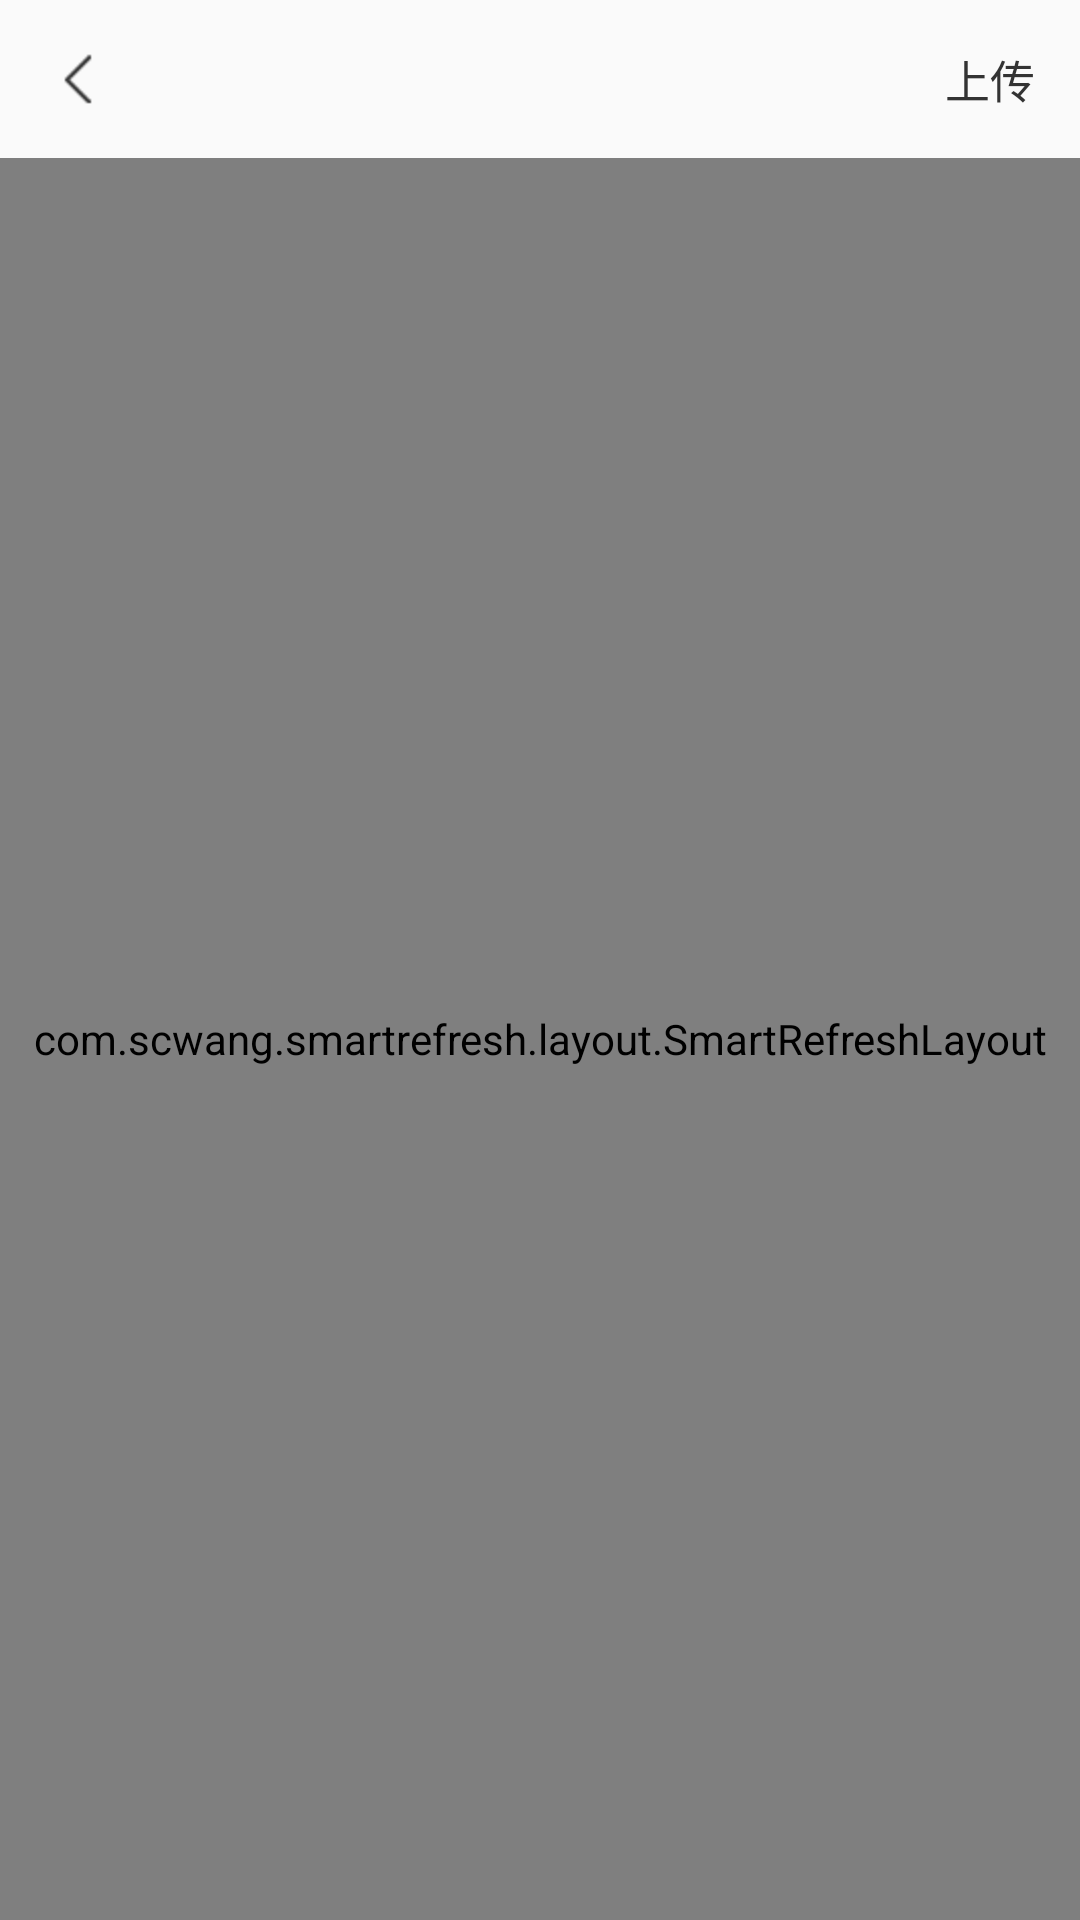

Named icons in this screenshot (1080*1920) and their centers, point (x, y):
back: point (78, 79)
